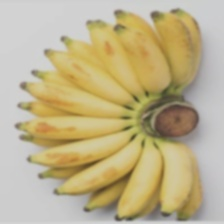banana: (44, 16, 192, 177)
